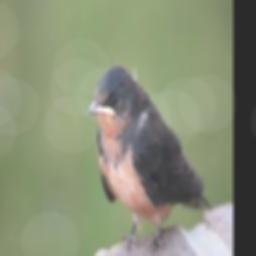Swallow: (86, 62, 212, 256)
